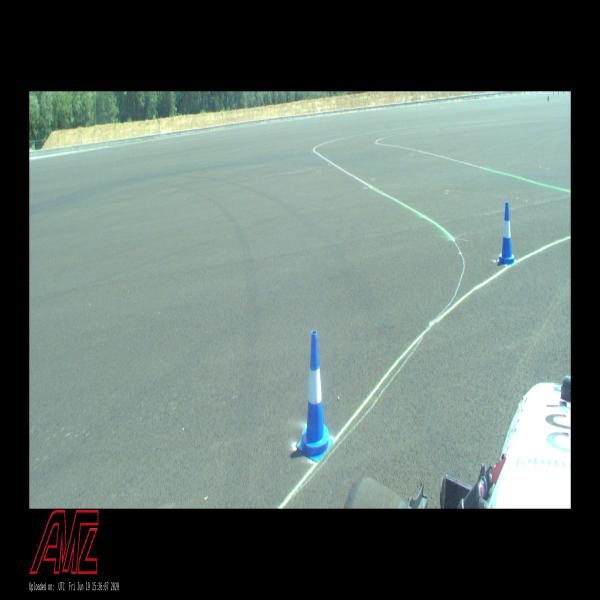blue_cone: (297, 331, 334, 462), (497, 203, 516, 266)
